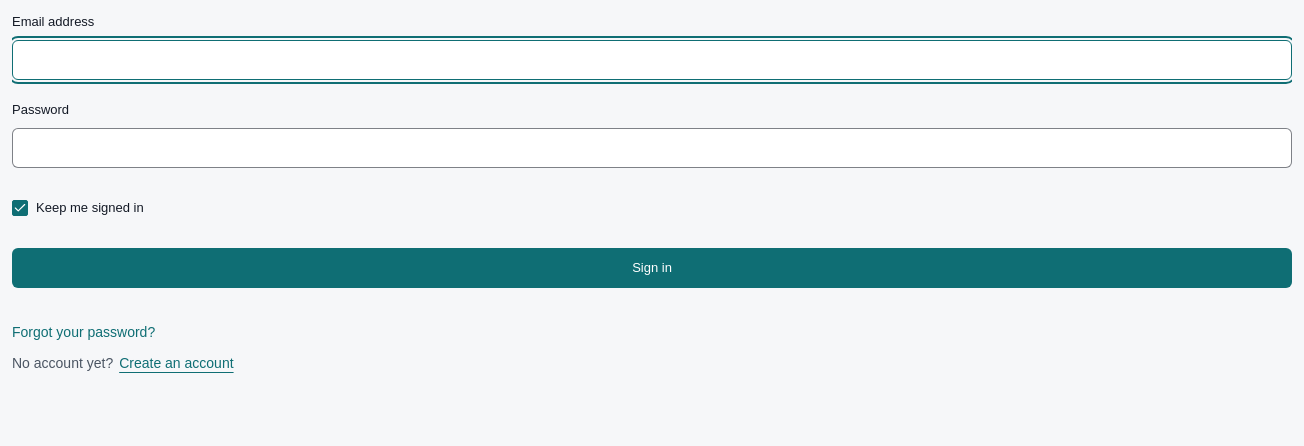
SignInForm (UI-001) › ties each message to its field with aria-describedby
Step 1. Type "not-an-address" into the field labelled "Email address" → (652, 60), box [12, 40, 1292, 80]
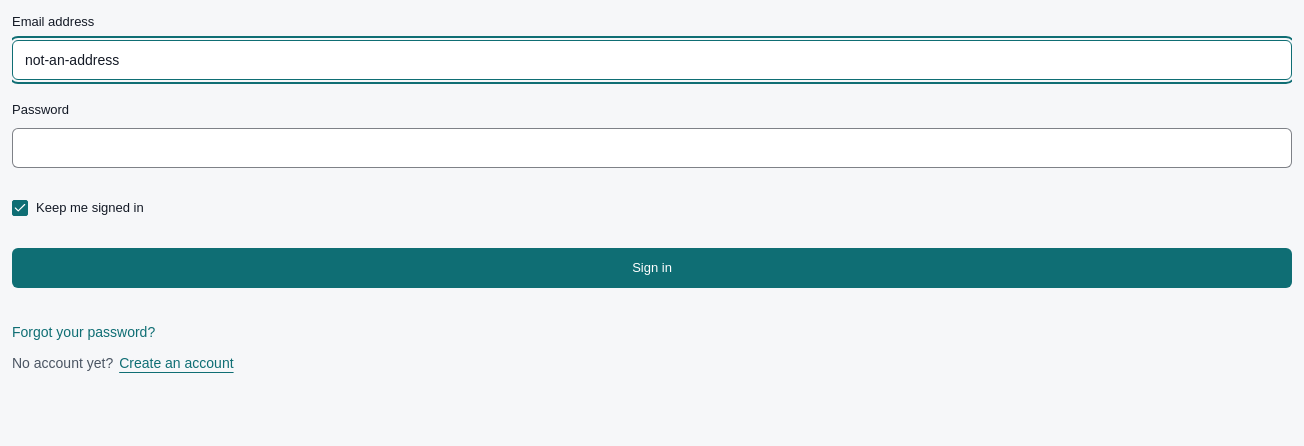
Step 2. Click the button "Sign in" → (652, 268), box [12, 248, 1292, 288]
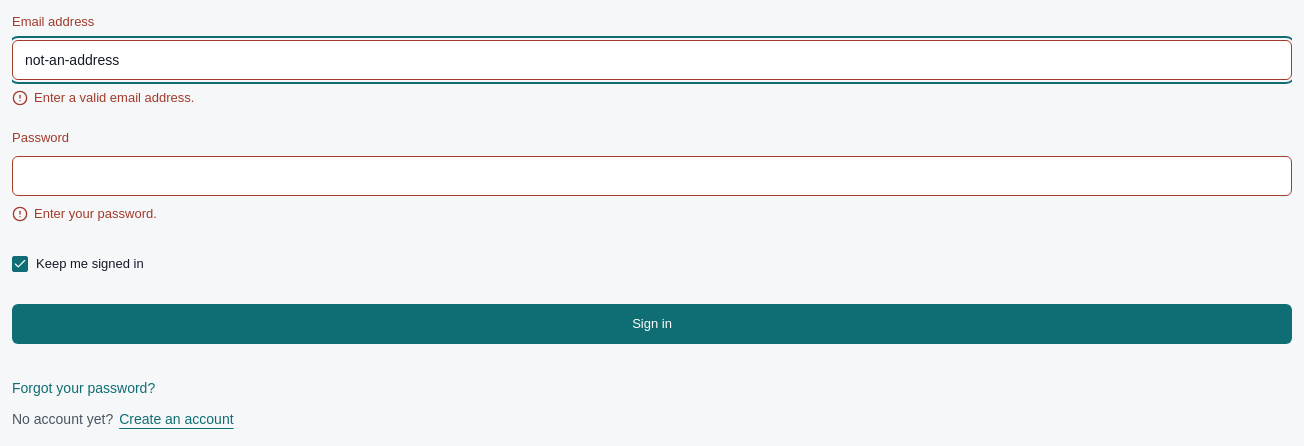
Check: the message with id "sign-in-email-error" reads "Enter a valid email address.", box [34, 90, 194, 105]
